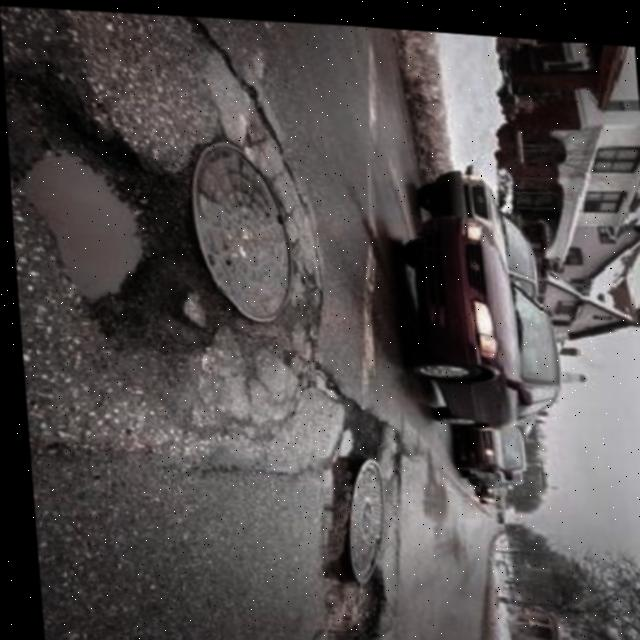Pothole: (2, 49, 222, 357), (300, 557, 389, 640), (317, 385, 394, 463)
